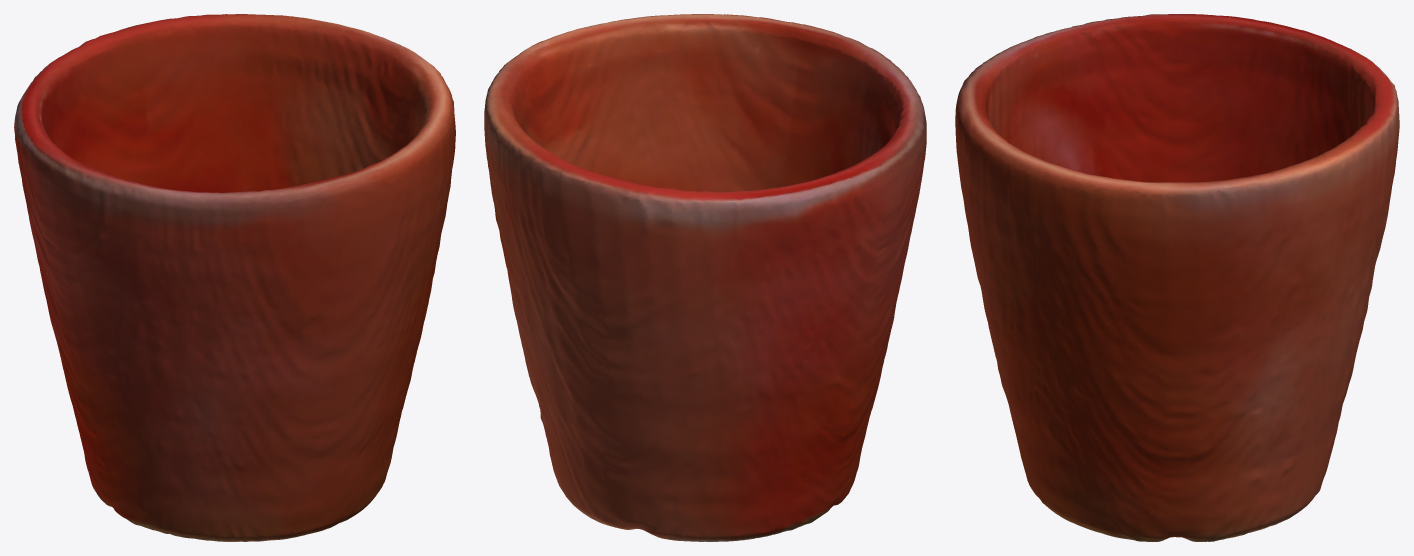
The model's file is Sapota_Threshold_4_Ceramic_Round_Planter_Red.glb.
The picture shows the model from 3 angles, left to right: view 1: azimuth 30°, elevation 25°; view 2: azimuth 150°, elevation 25°; view 3: azimuth 270°, elevation 25°; orthographic projection.
Visible parts, largest first — view 1: geometry_0; view 2: geometry_0; view 3: geometry_0.
Boxes of the visible parts, x1,y1,x2,y2 form: geometry_0: (14, 14, 455, 541); geometry_0: (484, 14, 926, 541); geometry_0: (955, 14, 1399, 541).
Size of the model in its own units: 0.8962 by 0.8562 by 0.8921.
Materials: 1 (1 with a texture image).
